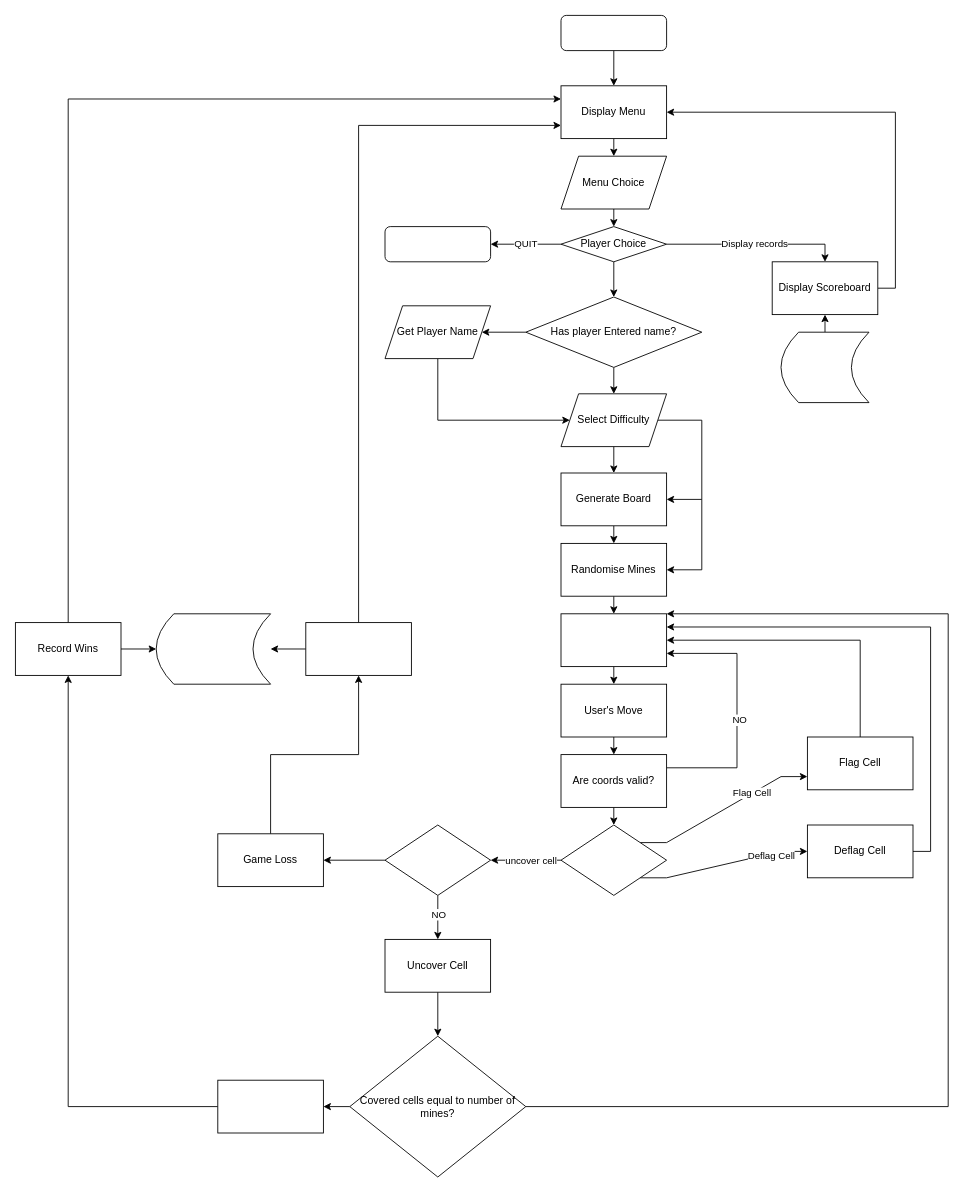
Some shapes in this 971 by 1192 pixel diagram are drawn without their labels. Here are the shapes that lost their labels. From the top down, the centre of each, then its label:
At (x=613, y=33): "Begin".
At (x=437, y=244): "End".
At (x=824, y=367): "Score Table".
At (x=213, y=648): "Game Records".
At (x=358, y=648): "Record Loss".
At (x=613, y=640): "Print Game Board".
At (x=437, y=859): "Is cell a mine?".
At (x=613, y=859): "Move Type".
At (x=270, y=1106): "Game Win".
